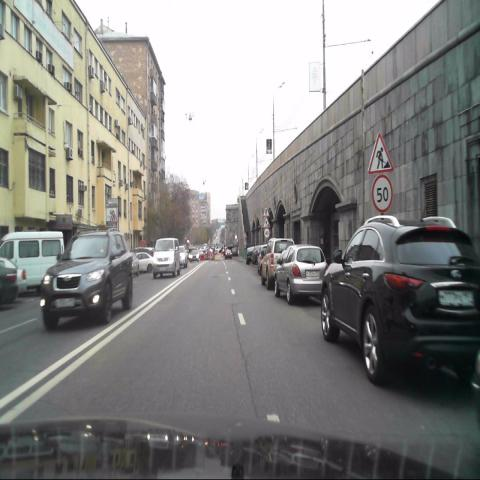1_20_3: (262, 205, 270, 216)
1_25: (366, 131, 394, 174), (262, 217, 270, 228)
3_24: (372, 174, 392, 214)
